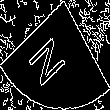N_NE: (31, 23, 79, 87)
